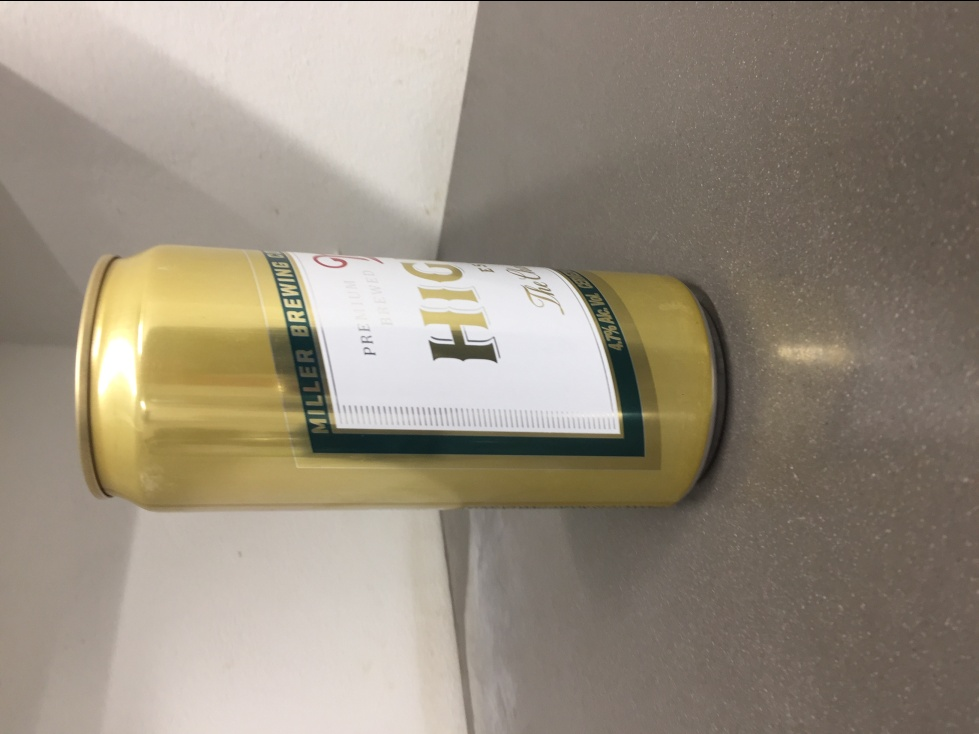miller: (70, 239, 730, 514)
